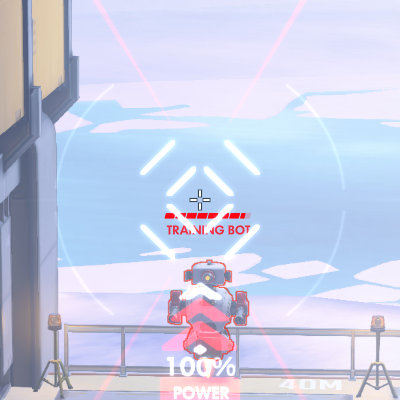hpbar: (164, 212, 251, 220)
